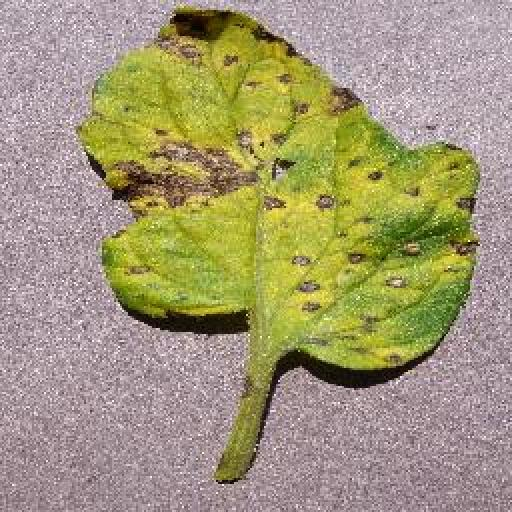disease_tomato: (82, 4, 482, 374)
